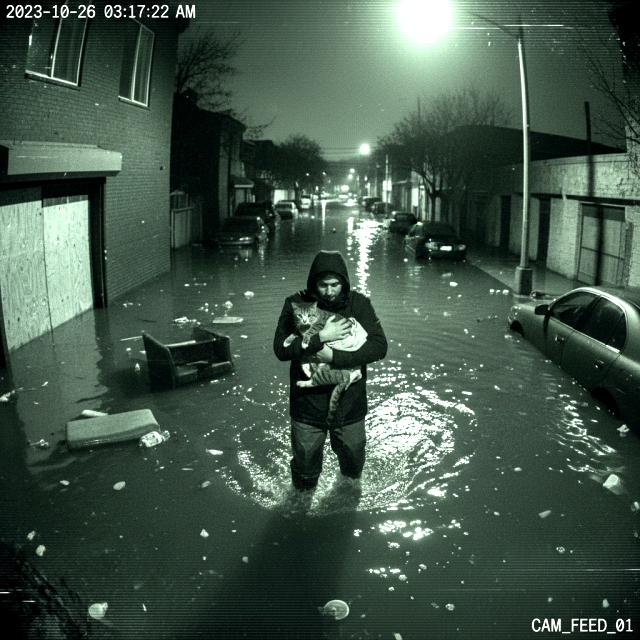cat: (291, 301, 356, 422)
civilian: (270, 244, 391, 507)
